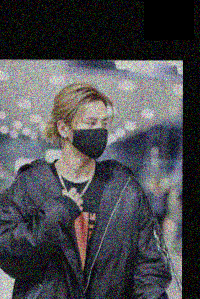with_mask: (68, 115, 109, 160)
